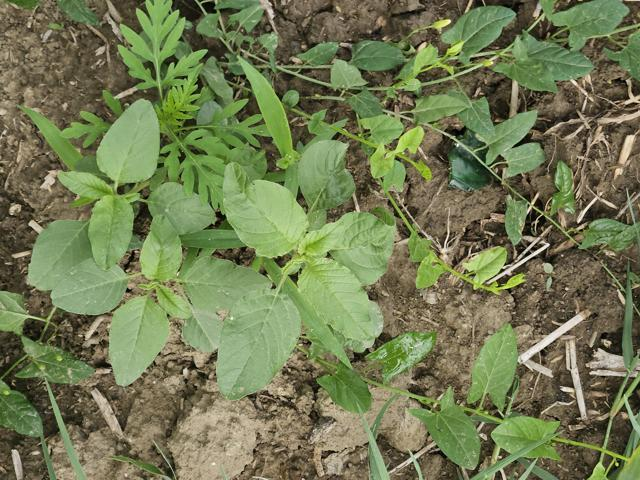bad weed: (65, 16, 399, 387), (417, 0, 614, 229), (414, 321, 574, 461)
